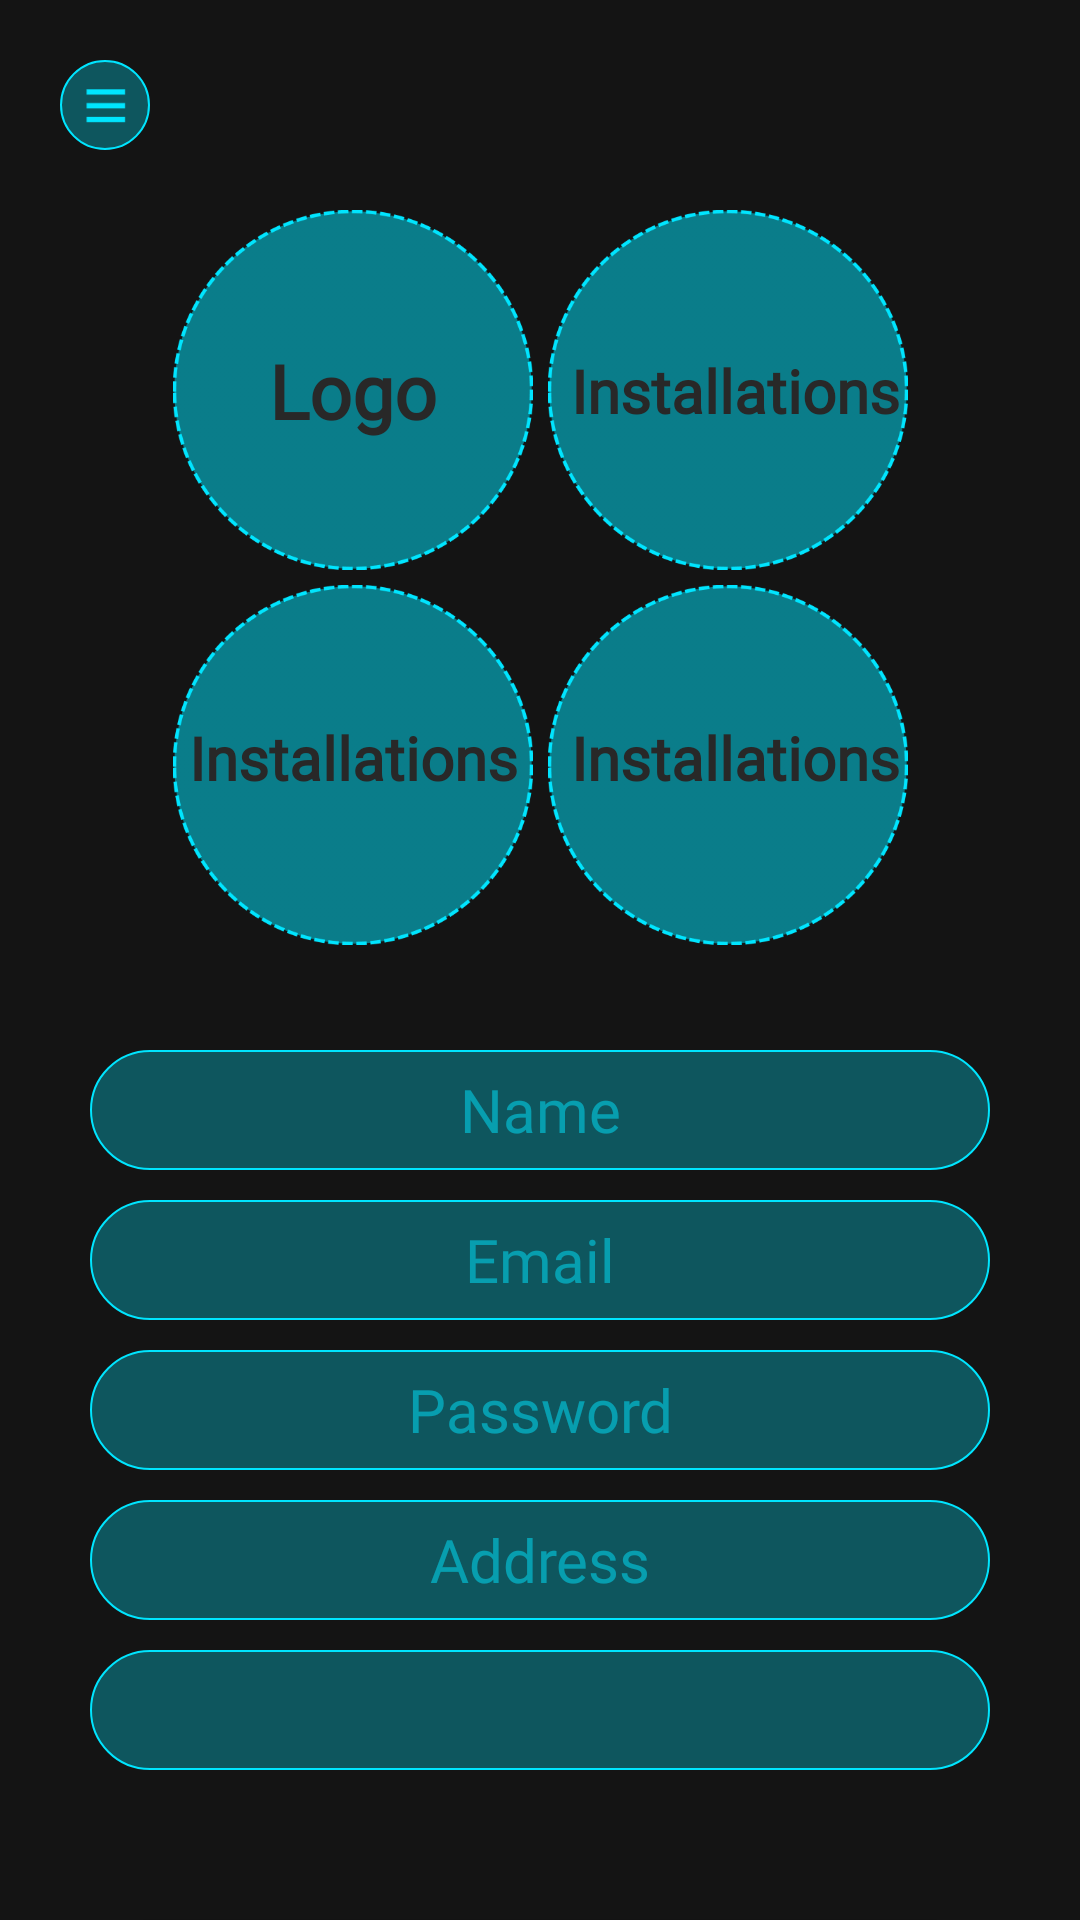

Icon click points for this 1080 × 1920 phone screenshot, format point (x, y):
menu: point (106, 106)
